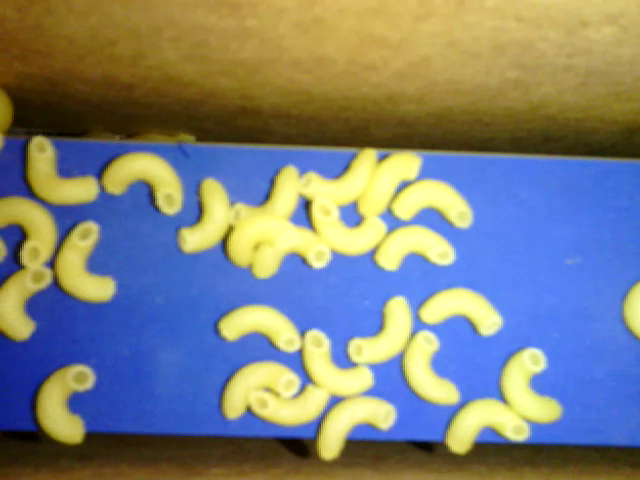elbow: (101, 150, 183, 218), (316, 395, 398, 463), (443, 397, 532, 459), (499, 347, 566, 429), (23, 135, 97, 208), (220, 358, 301, 423), (31, 364, 95, 445), (56, 220, 114, 305), (301, 146, 380, 208), (418, 286, 507, 341), (213, 300, 302, 355), (232, 165, 304, 232), (250, 227, 335, 283), (401, 328, 461, 407), (391, 176, 474, 233), (351, 293, 414, 368), (309, 200, 389, 258), (358, 150, 424, 220), (302, 330, 375, 393), (178, 177, 234, 256), (371, 223, 456, 274), (227, 215, 300, 273), (1, 197, 58, 268), (2, 262, 52, 342), (246, 383, 333, 428)
